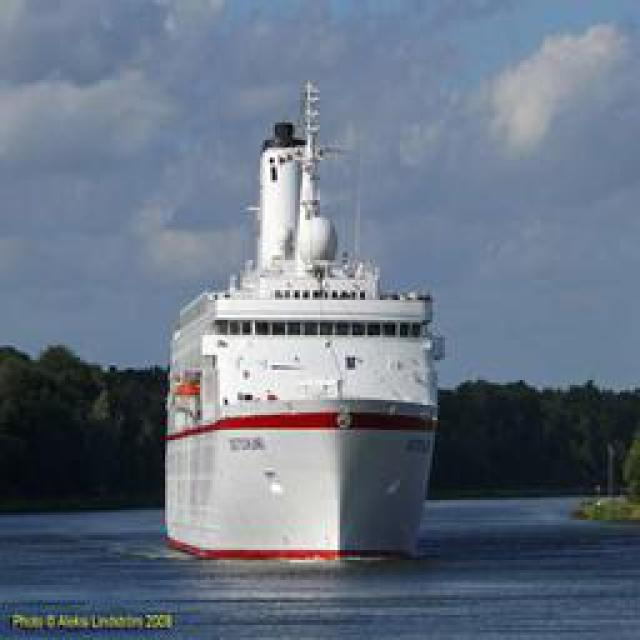Ship: (156, 69, 449, 559)
